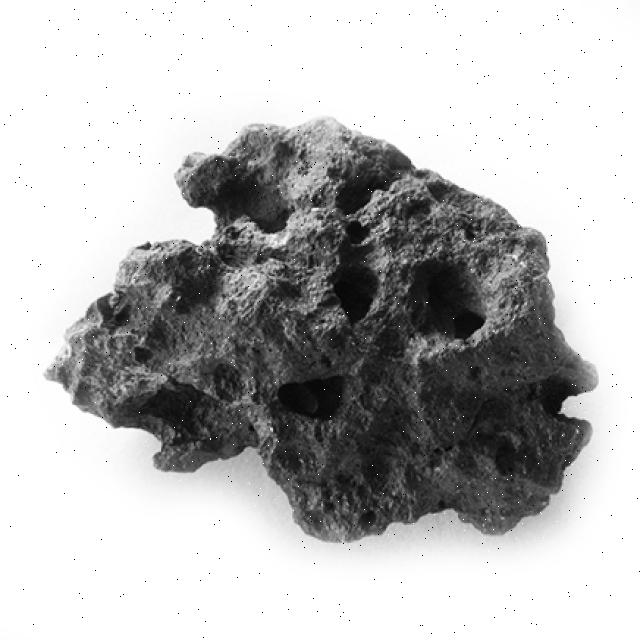Igneous: (38, 111, 617, 540)
